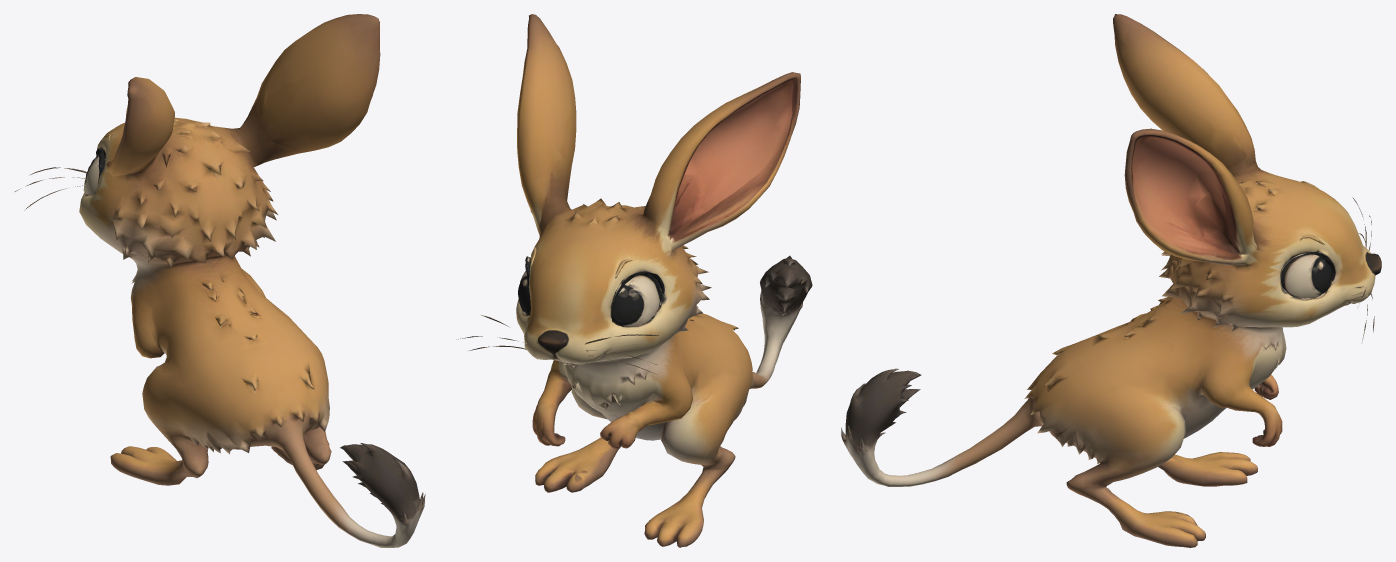
The model's file is Jerboa_Creature.glb.
3 views of the same model, side by side, from view 1: azimuth 30°, elevation 25°; view 2: azimuth 150°, elevation 25°; view 3: azimuth 270°, elevation 25° (orthographic). The views are drawn at different scales.
Parts seen in each view (by area): view 1: Jerboa_Creature; view 2: Jerboa_Creature; view 3: Jerboa_Creature.
Part boxes in pixels (box(x1,y1,x2,y2)): Jerboa_Creature: box(14, 14, 425, 547); Jerboa_Creature: box(456, 14, 812, 547); Jerboa_Creature: box(841, 14, 1381, 547).
Size of the model in its own units: 0.5488 by 0.8887 by 0.998.
Materials: 1 (1 with a texture image).
